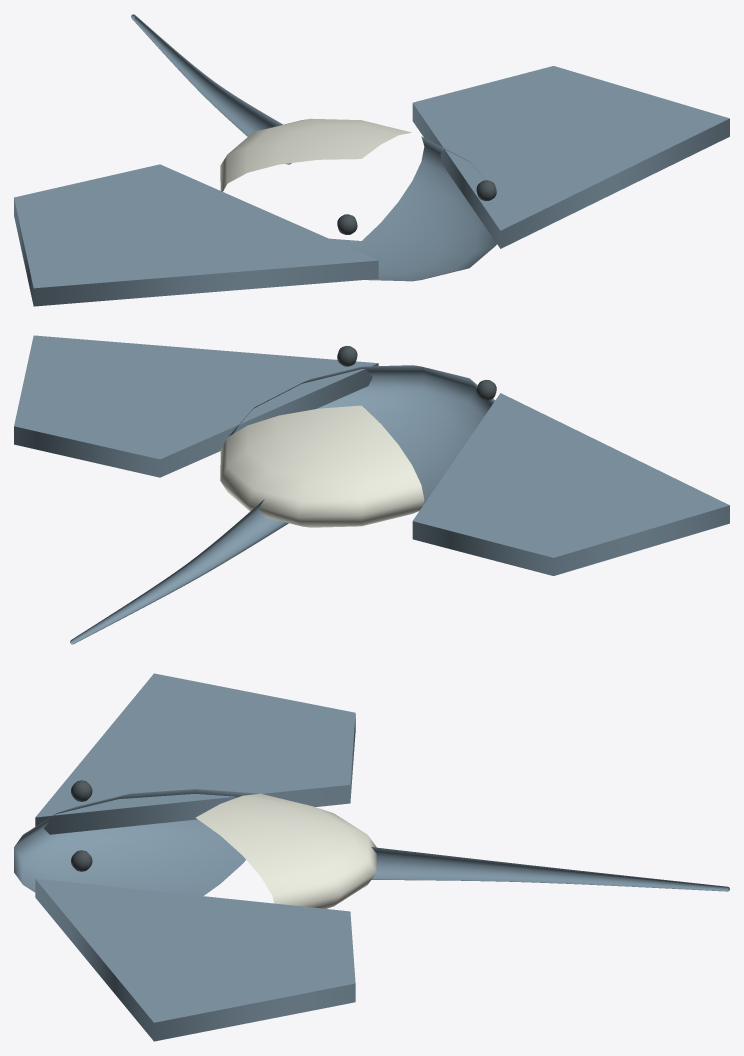
Rendered from open-ocean-and-deep-sea-life-southern-stingray-a3bd4c7a__5877.glb.
3 views of the same model, one above another, from view 1: azimuth 30°, elevation 25°; view 2: azimuth 150°, elevation 25°; view 3: azimuth 270°, elevation 25° (orthographic). The views are drawn at different scales.
Parts seen in each view (by area): view 1: southern-stingray; view 2: southern-stingray; view 3: southern-stingray.
Part boxes in pixels (x1=…): southern-stingray: x1=14, y1=14, x2=729, y2=306; southern-stingray: x1=14, y1=335, x2=729, y2=644; southern-stingray: x1=14, y1=673, x2=729, y2=1041.
Size of the model in its own units: 2.08 by 0.2377 by 1.8.
